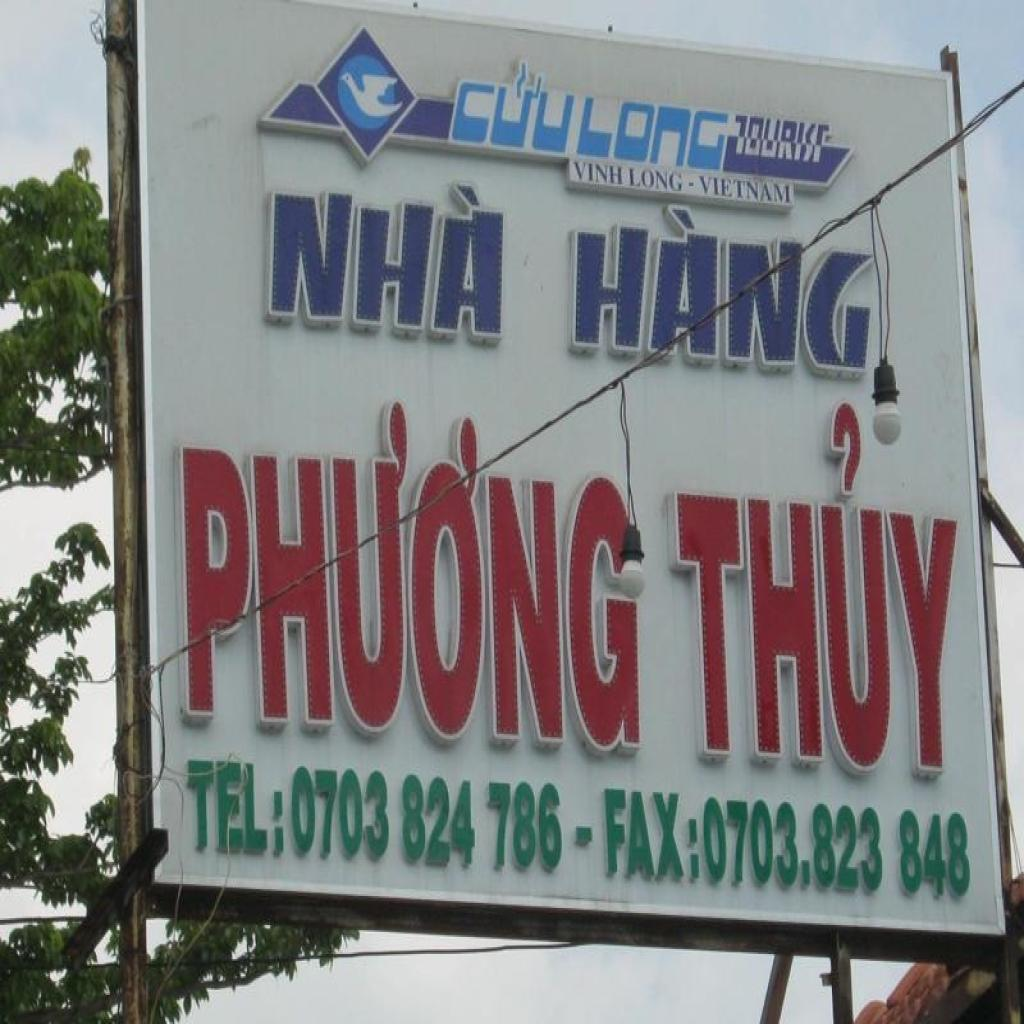text: (167, 389, 645, 768), (658, 404, 971, 788), (564, 191, 880, 381), (260, 169, 512, 346), (289, 759, 566, 879), (574, 92, 732, 176), (451, 55, 581, 155), (180, 756, 286, 862), (599, 784, 705, 888), (731, 109, 836, 169), (698, 172, 792, 208), (627, 164, 686, 196), (571, 159, 626, 189)
